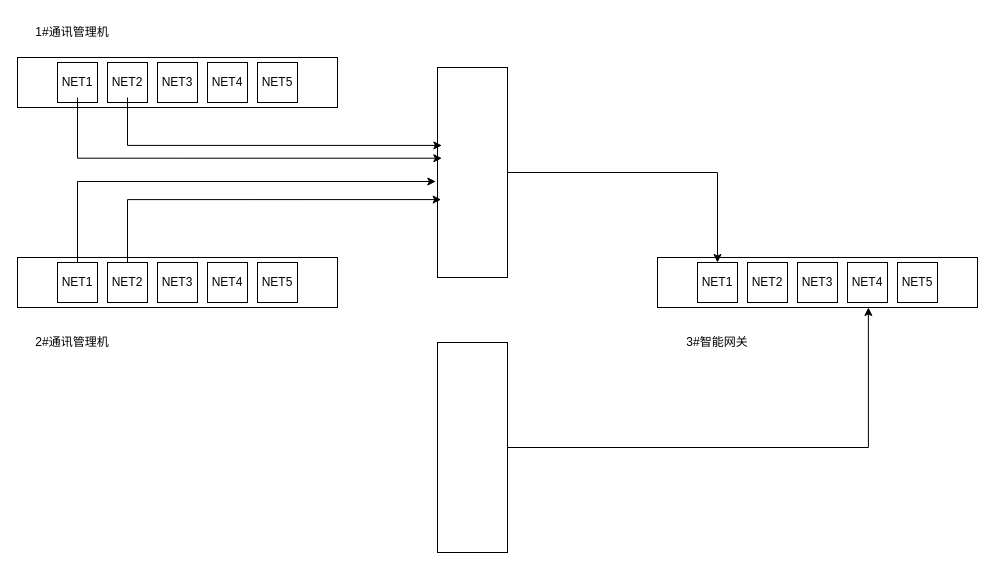
Some shapes in this 995 by 570 pixel diagram are drawn without their labels. Here are the shapes that lost their labels. From the top down, the centre of each, then its label:
[472,172]: 低 压 柜 交 换 机
[472,447]: 中 压 柜 交 换 机
